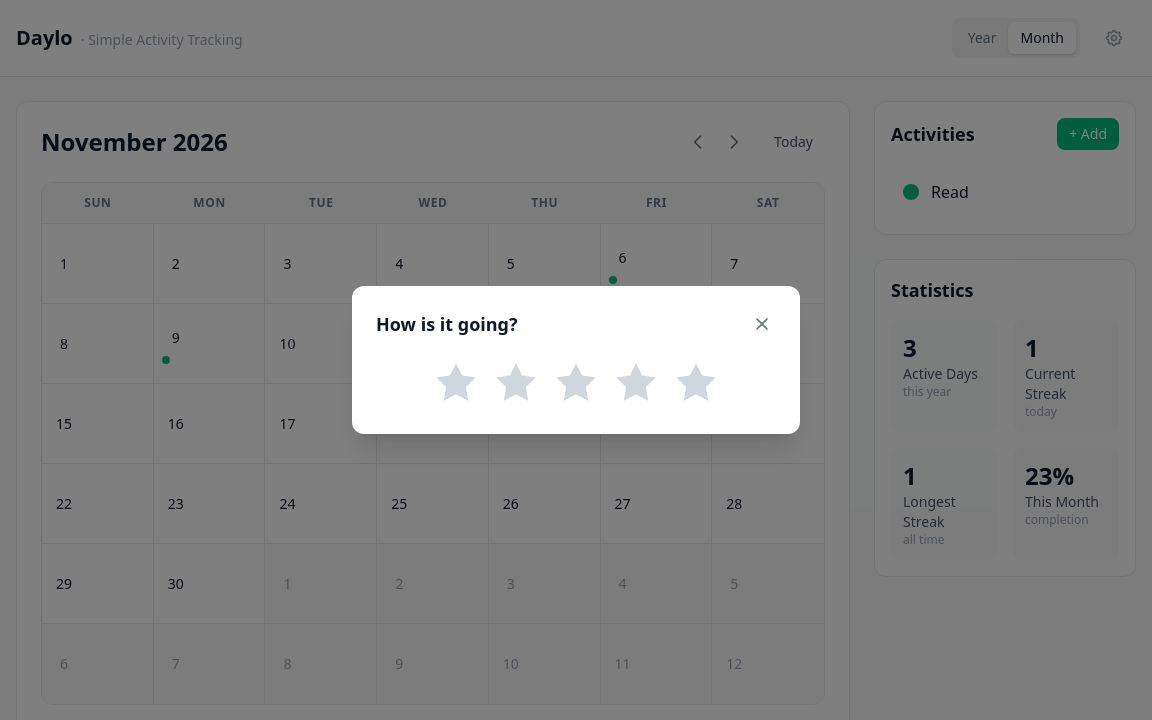
it: what the new day leaves alone › does not bring back a question that was closed yesterday
The image size is (1152, 720).
Expected: the dialog with test id "feedback-rating" is shown, [352,286,800,434]
Click the button named "Close modal".
click(762, 324)  # box [748,310,776,338]
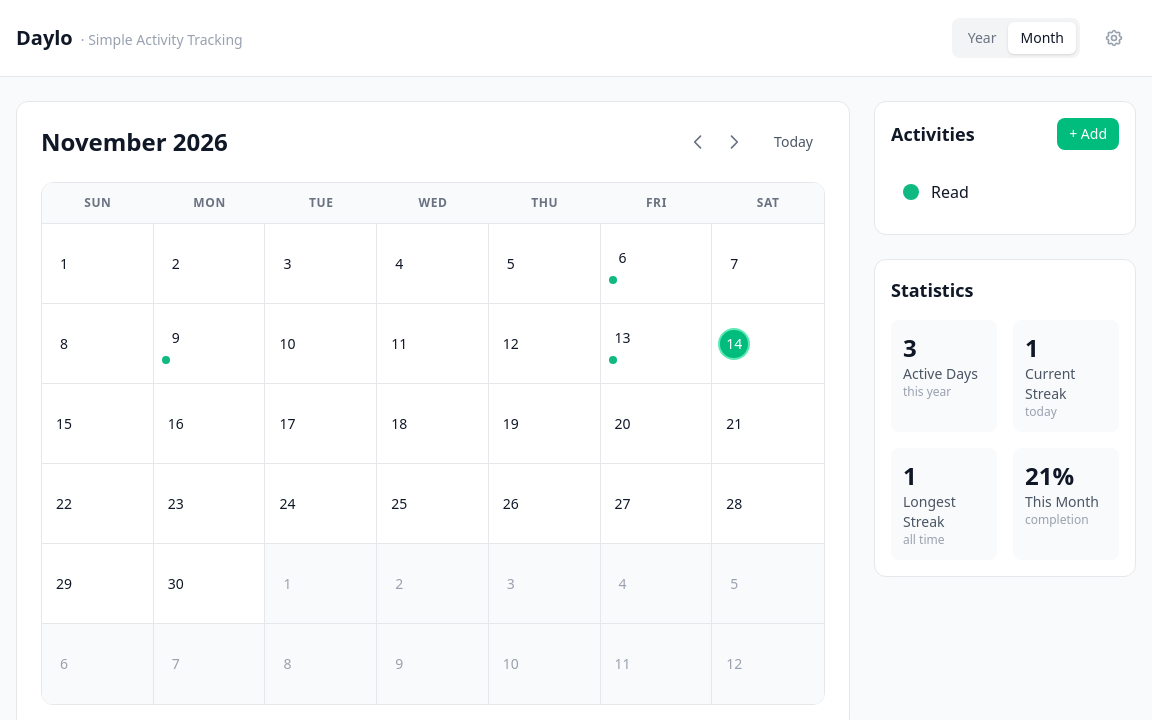
Result: the dialog with test id "feedback-rating" is gone
